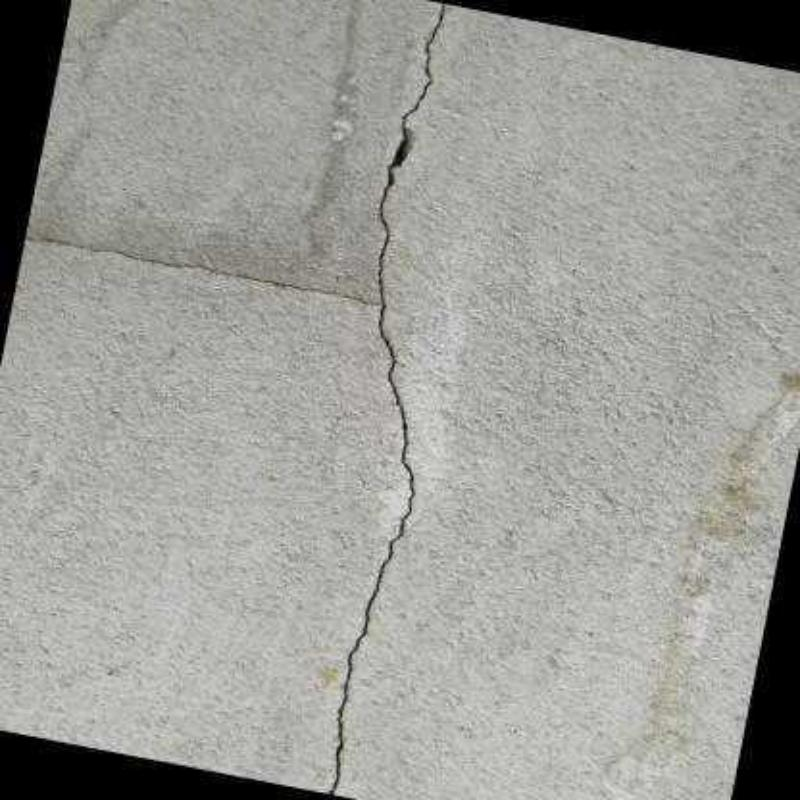pothole: (24, 0, 447, 795)
